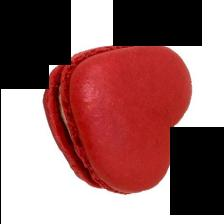red: (42, 43, 191, 195)
